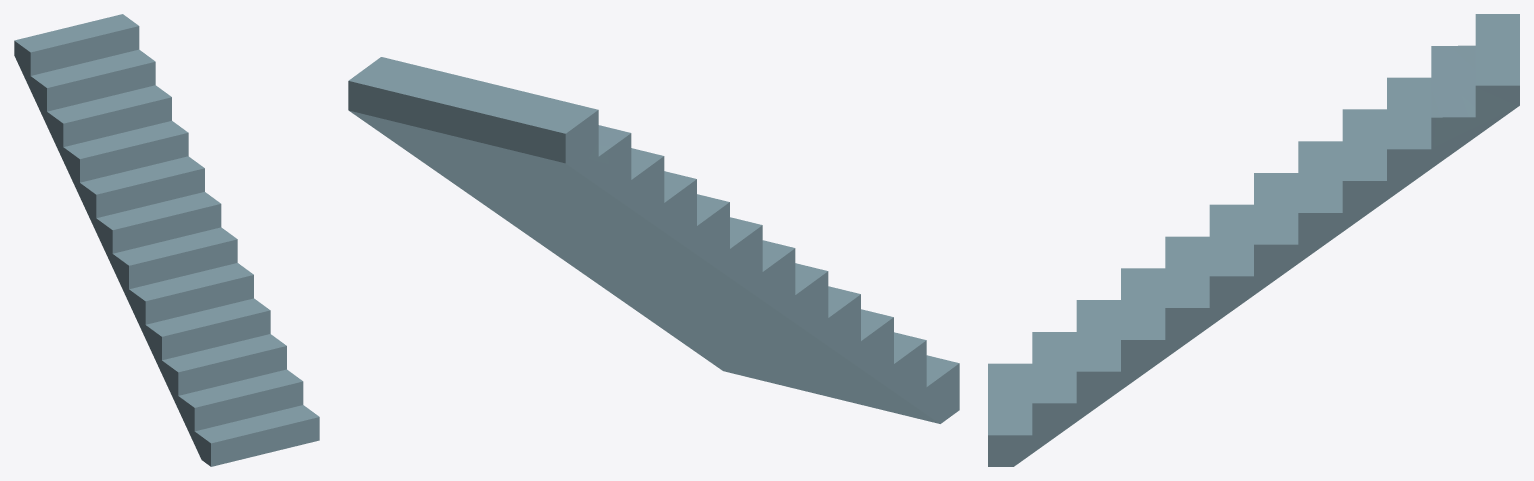
The model's file is Stairs_104.glb.
The picture shows the model from 3 angles, left to right: view 1: azimuth 30°, elevation 25°; view 2: azimuth 150°, elevation 25°; view 3: azimuth 270°, elevation 25°; orthographic projection. The views are drawn at different scales.
Parts seen in each view (by area): view 1: Stairs_104; view 2: Stairs_104; view 3: Stairs_104.
Part boxes in pixels (x1,y1,x2,y2): Stairs_104: (14, 14, 319, 466); Stairs_104: (348, 57, 959, 423); Stairs_104: (988, 14, 1519, 466).
Bounding box in the file's own units: 1.62 × 4.02 × 5.08.
1 material, 1 textured.
